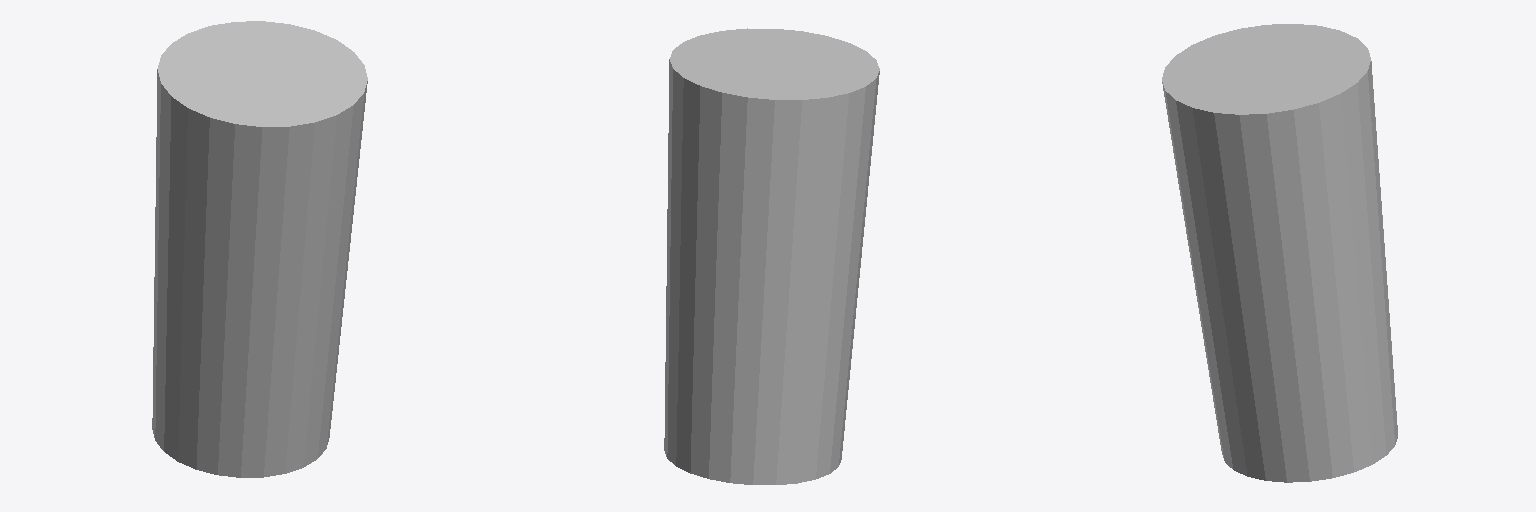
File: Left Upper Leg.obj
3 renders of one model, left to right at view 1: azimuth 30°, elevation 25°; view 2: azimuth 150°, elevation 25°; view 3: azimuth 270°, elevation 25°, orthographic.
Parts seen in each view (by area): view 1: Left_Upper_Leg_Sphere.016; view 2: Left_Upper_Leg_Sphere.016; view 3: Left_Upper_Leg_Sphere.016.
Part boxes in pixels (bbox=[...]): Left_Upper_Leg_Sphere.016: bbox=[152, 21, 367, 477]; Left_Upper_Leg_Sphere.016: bbox=[664, 28, 879, 484]; Left_Upper_Leg_Sphere.016: bbox=[1162, 24, 1397, 482].
Bounding box in the file's own units: 0.76 × 1.56 × 0.853.